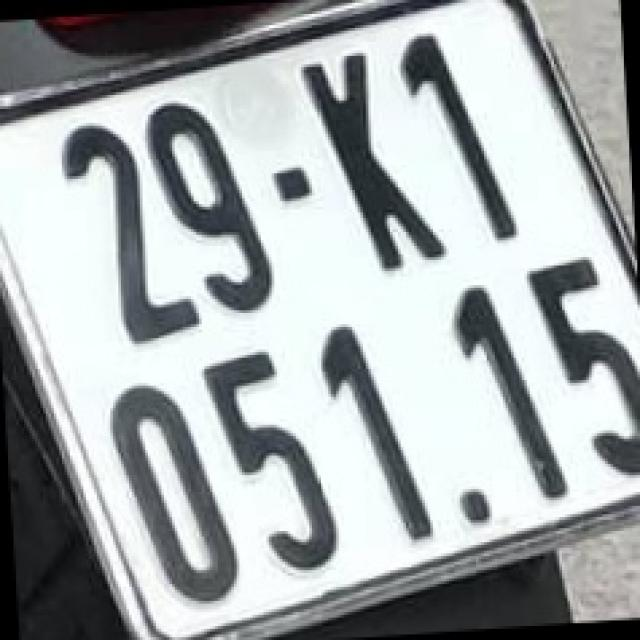0: (111, 372, 232, 598)
1: (452, 277, 573, 517), (326, 311, 438, 554), (406, 41, 519, 236)
2: (65, 115, 196, 346)
5: (212, 346, 339, 573), (538, 242, 640, 479)
9: (156, 95, 277, 319)
K: (306, 39, 438, 271)
